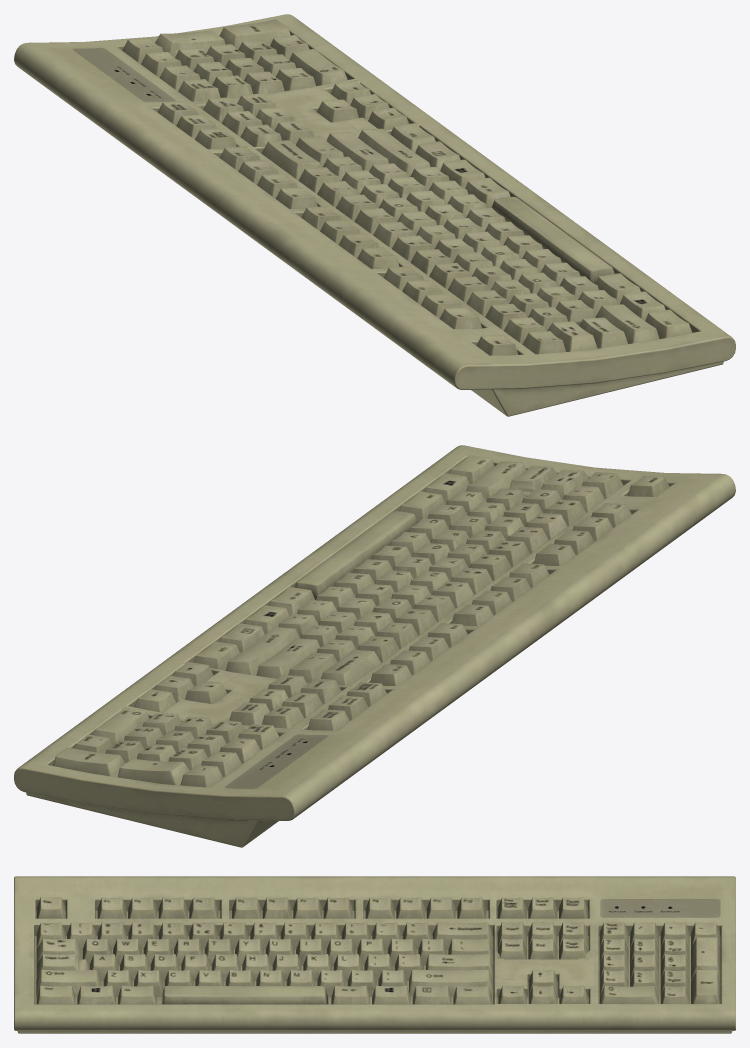
The model's file is retro-keyboard.glb.
The picture shows the model from 3 angles, top to bottom: view 1: azimuth 30°, elevation 25°; view 2: azimuth 150°, elevation 25°; view 3: azimuth 270°, elevation 25°; orthographic projection. The views are drawn at different scales.
Visible parts, largest first — view 1: Keyboard; view 2: Keyboard; view 3: Keyboard.
Part boxes in pixels (x1=…): Keyboard: x1=14, y1=14, x2=735, y2=416; Keyboard: x1=14, y1=445, x2=735, y2=847; Keyboard: x1=14, y1=876, x2=735, y2=1033.
Bounding box in the file's own units: 0.8947 × 0.1951 × 2.43.
Materials: 1 (1 with a texture image).
